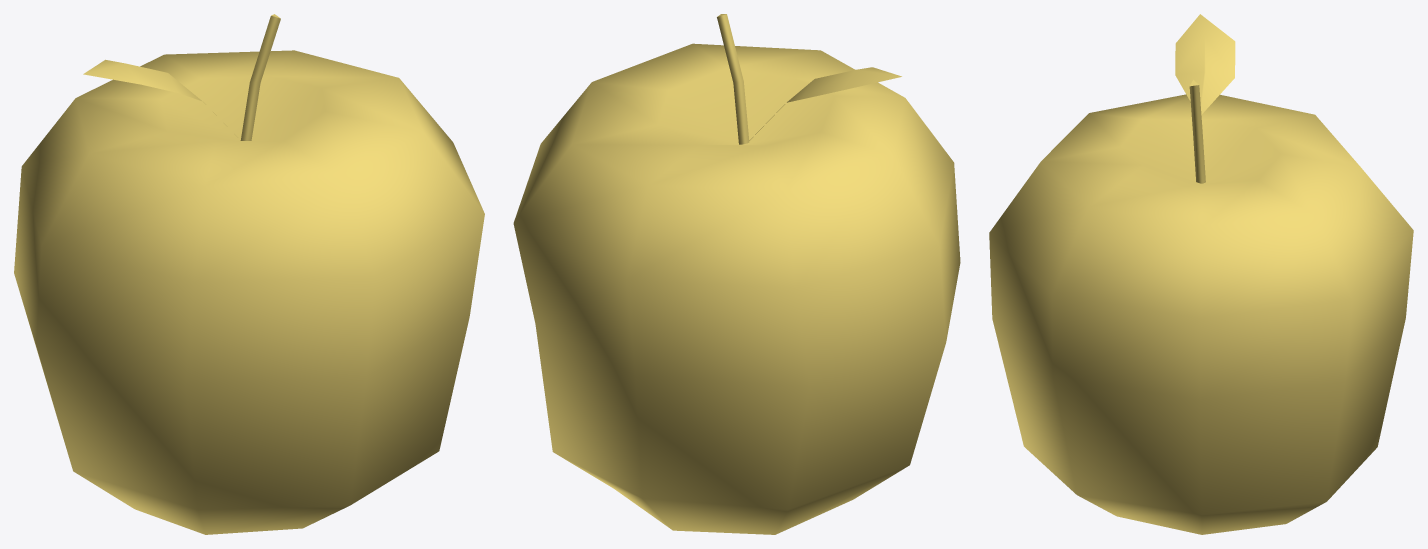
File: goldenApple.glb
3 renders of one model, left to right at view 1: azimuth 30°, elevation 25°; view 2: azimuth 150°, elevation 25°; view 3: azimuth 270°, elevation 25°, orthographic. The views are drawn at different scales.
Visible parts, largest first — view 1: Cylinder001, Plane004, Cylinder002; view 2: Cylinder001, Plane004, Cylinder002; view 3: Cylinder001, Plane004, Cylinder002.
Boxes of the visible parts, bbox=[...] form: Cylinder001: bbox=[14, 50, 484, 534]; Plane004: bbox=[83, 59, 237, 137]; Cylinder002: bbox=[240, 14, 280, 140]; Cylinder001: bbox=[513, 43, 960, 534]; Plane004: bbox=[749, 67, 901, 140]; Cylinder002: bbox=[717, 14, 749, 144]; Cylinder001: bbox=[989, 94, 1413, 534]; Plane004: bbox=[1175, 14, 1235, 114]; Cylinder002: bbox=[1189, 80, 1205, 183].
Size of the model in its own units: 0.4688 by 0.5193 by 0.462.
